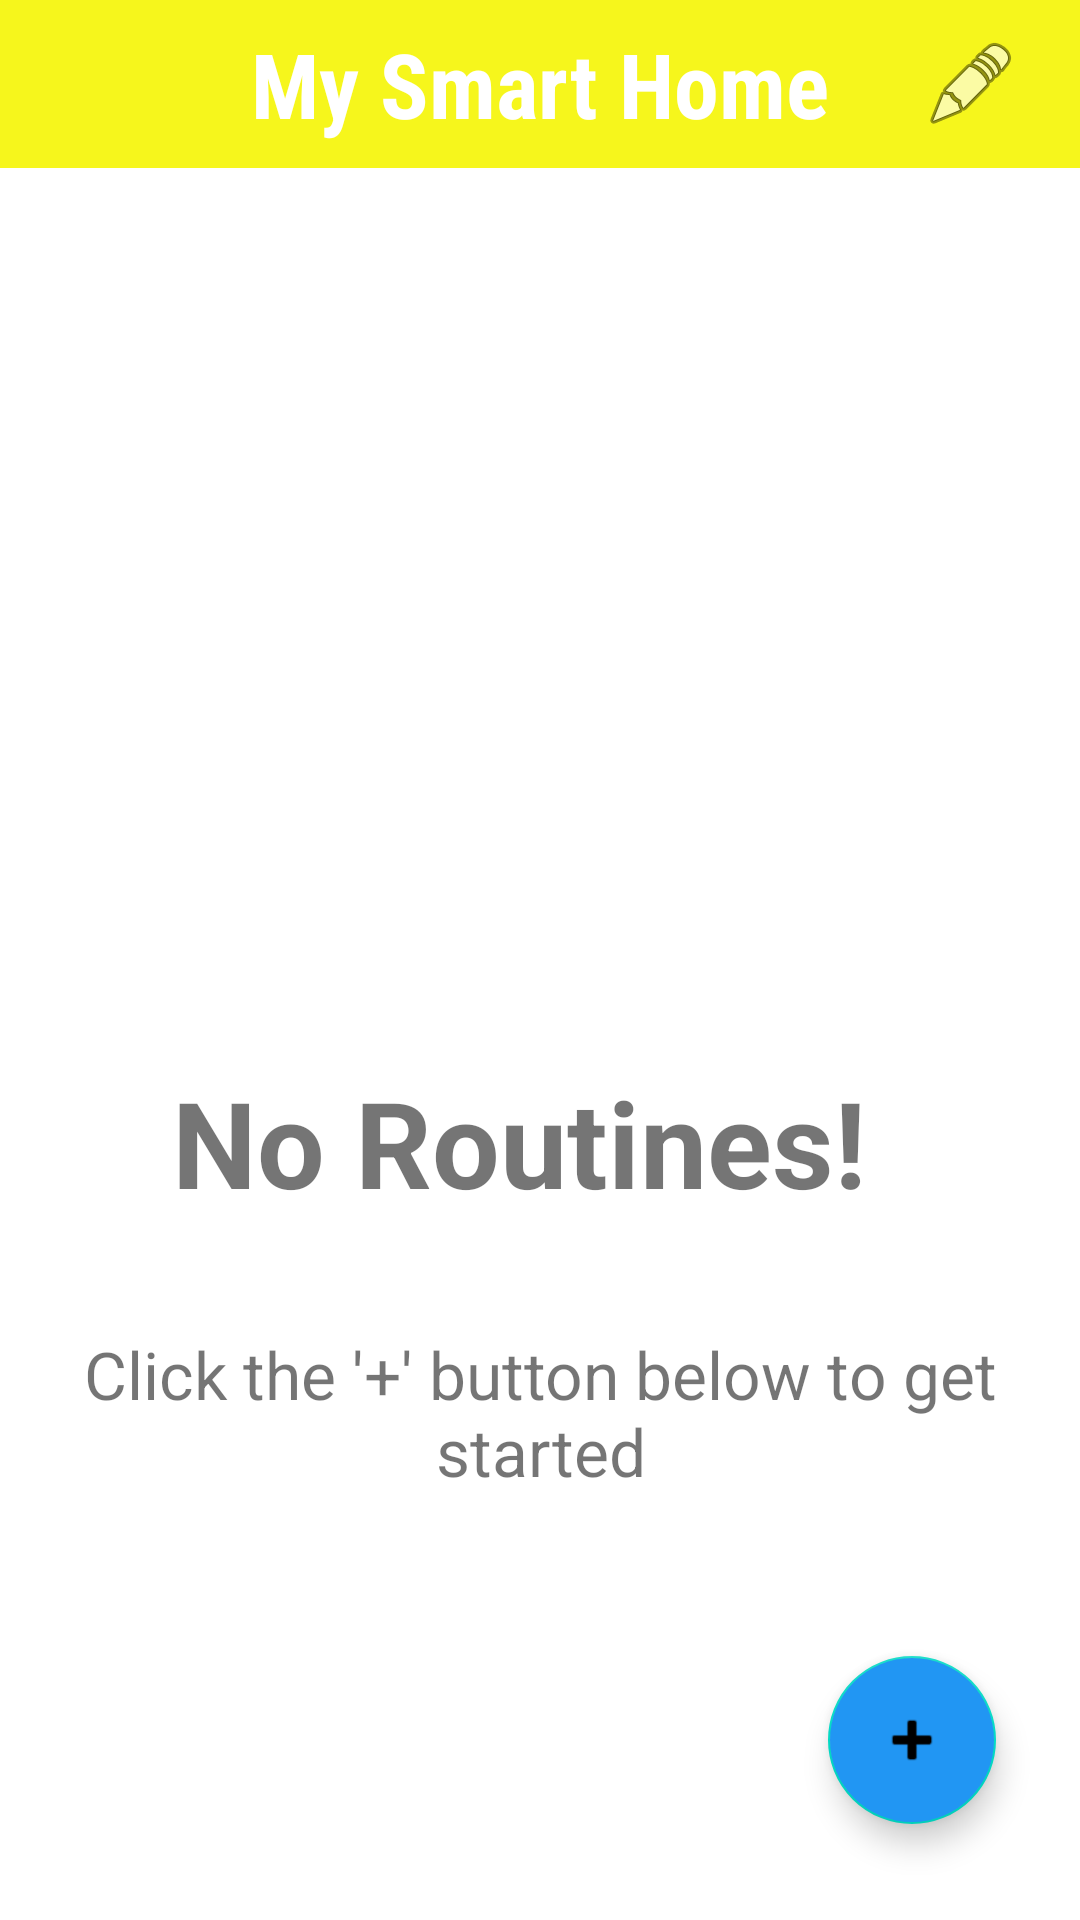

Locate icon controls on the screen. Image size 1080w x 1920h, boxes as (x1, y1, x2, y2).
add: (828, 1656, 996, 1824)
